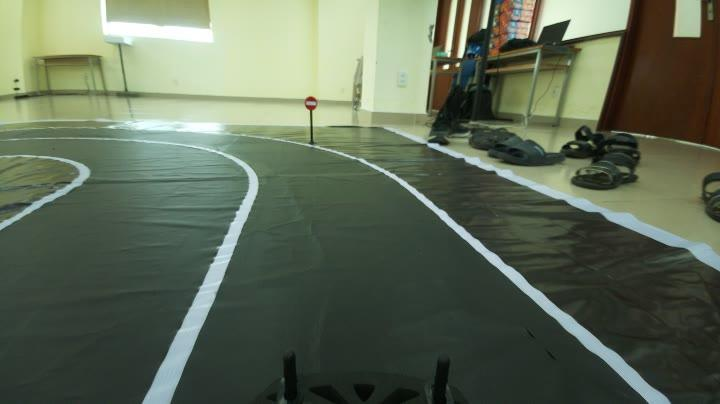no_entry: (300, 95, 320, 113)
